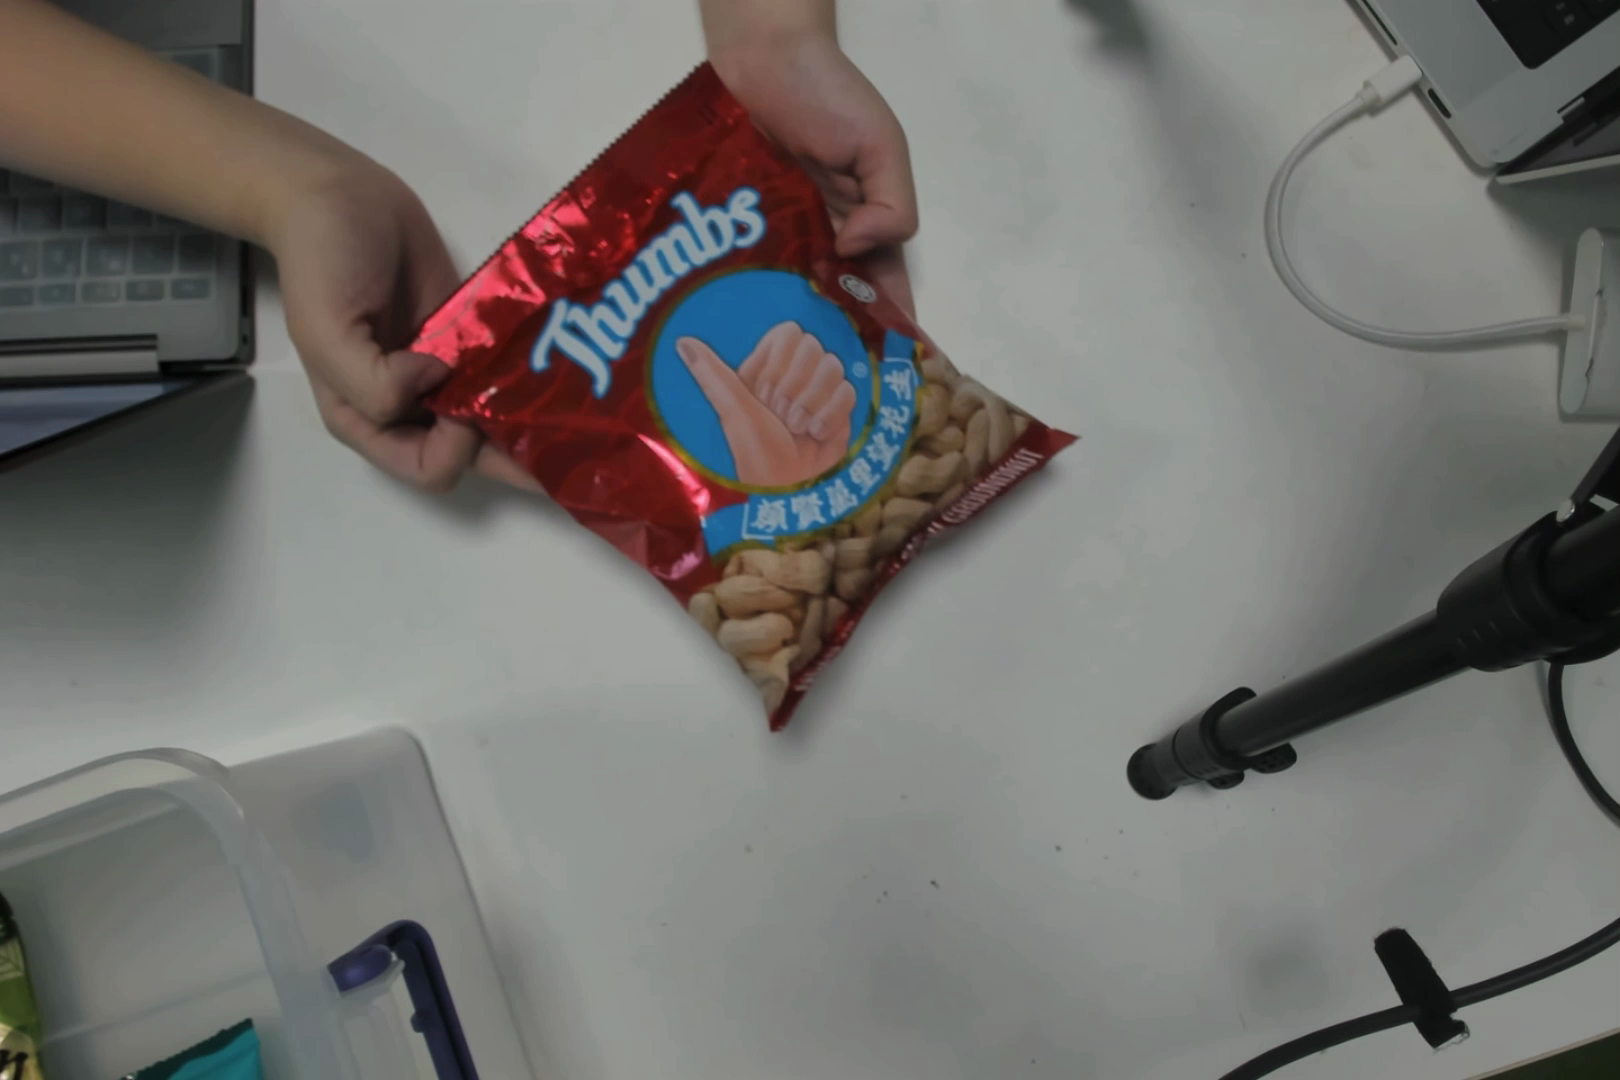Nuts_100-199g_Halal_NonHealthy: (545, 172, 990, 692)
